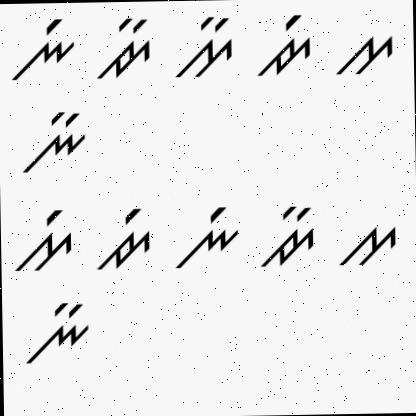jan: (258, 198, 320, 270), (93, 13, 156, 82)
jang: (248, 7, 312, 77), (92, 203, 152, 273)
nyan: (20, 108, 96, 176), (25, 296, 93, 366)
nyang: (169, 202, 242, 272), (10, 16, 78, 84)
sa: (329, 27, 398, 79), (336, 218, 399, 273)
san: (168, 10, 236, 82)
sang: (12, 202, 74, 276)
